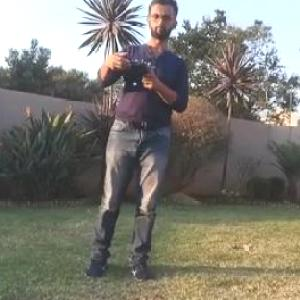follow: (75, 0, 195, 292)
